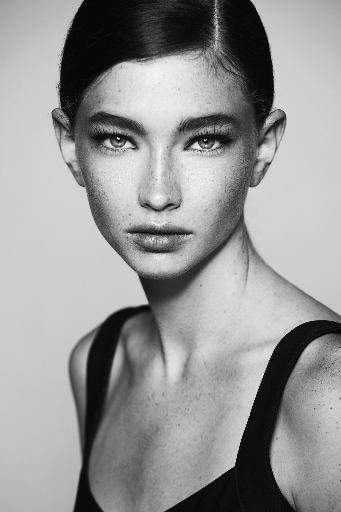left_eye: (182, 130, 234, 157)
left_lip_corner: (185, 226, 199, 244)
right_eye: (94, 132, 141, 159)
right_lip_corner: (126, 223, 141, 244)
